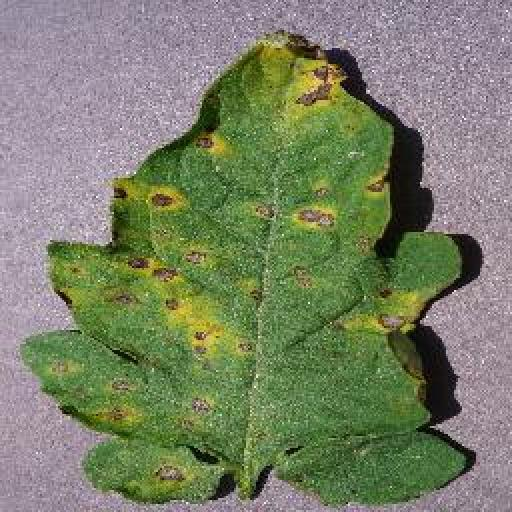Septoria: (20, 23, 475, 504)
